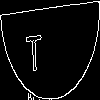T: (25, 24, 43, 73)
